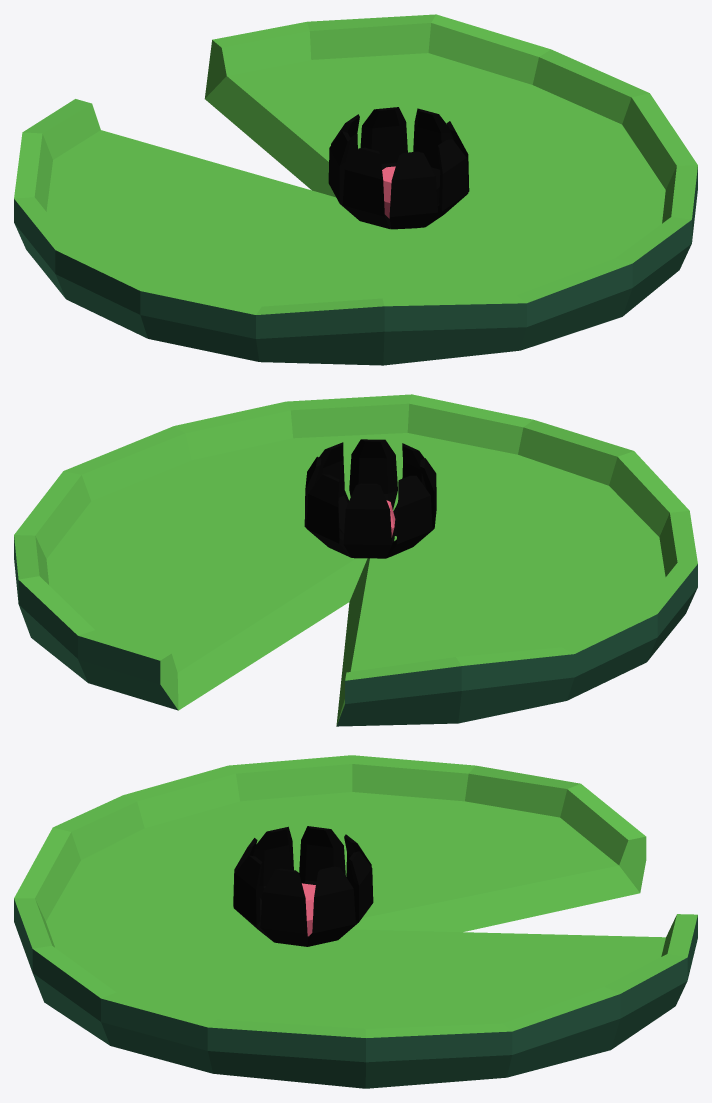
Rendered from Water Lily 03.fbx.
The picture shows the model from 3 angles, top to bottom: view 1: azimuth 30°, elevation 25°; view 2: azimuth 150°, elevation 25°; view 3: azimuth 270°, elevation 25°; orthographic projection. The views are drawn at different scales.
Visible parts, largest first — view 1: Water Lily 03; view 2: Water Lily 03; view 3: Water Lily 03.
Boxes of the visible parts, x1,y1,x2,y2 form: Water Lily 03: [14, 14, 697, 365]; Water Lily 03: [14, 394, 697, 726]; Water Lily 03: [14, 755, 697, 1088].
Bounding box in the file's own units: 112 × 19.83 × 113.
